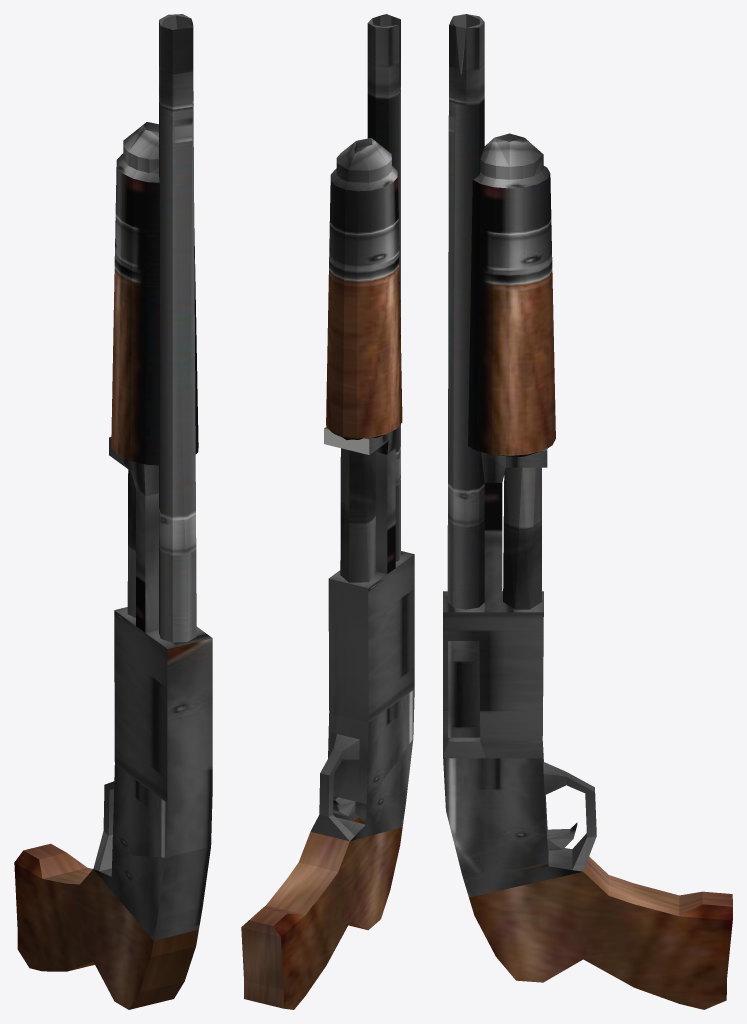
The model's file is shotgun626Alow_wtf.obj.
3 views of the same model, side by side, from view 1: azimuth 30°, elevation 25°; view 2: azimuth 150°, elevation 25°; view 3: azimuth 270°, elevation 25° (orthographic). The views are drawn at different scales.
Parts seen in each view (by area): view 1: group1, group4, group6; view 2: group1, group6, group4, group2; view 3: group1, group6, group4.
Boxes of the visible parts, x1=… form: group1: x1=14, y1=437, x2=212, y2=1009; group4: x1=159, y1=14, x2=196, y2=642; group6: x1=111, y1=122, x2=198, y2=617; group1: x1=241, y1=427, x2=414, y2=1009; group6: x1=326, y1=138, x2=402, y2=582; group4: x1=367, y1=14, x2=400, y2=561; group2: x1=324, y1=428, x2=369, y2=454; group1: x1=443, y1=448, x2=732, y2=1009; group6: x1=468, y1=133, x2=555, y2=609; group4: x1=447, y1=14, x2=484, y2=609.
Bounding box in the file's own units: 49.52 × 660 × 177.
